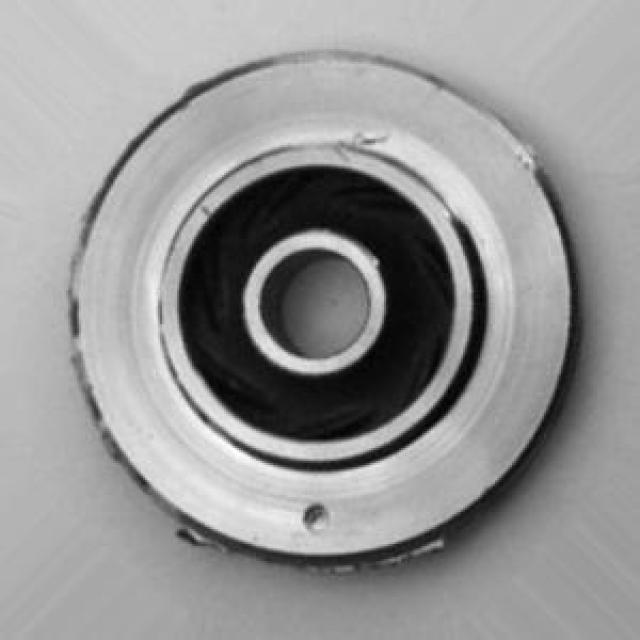Defect: (333, 113, 400, 154), (300, 494, 334, 533)
